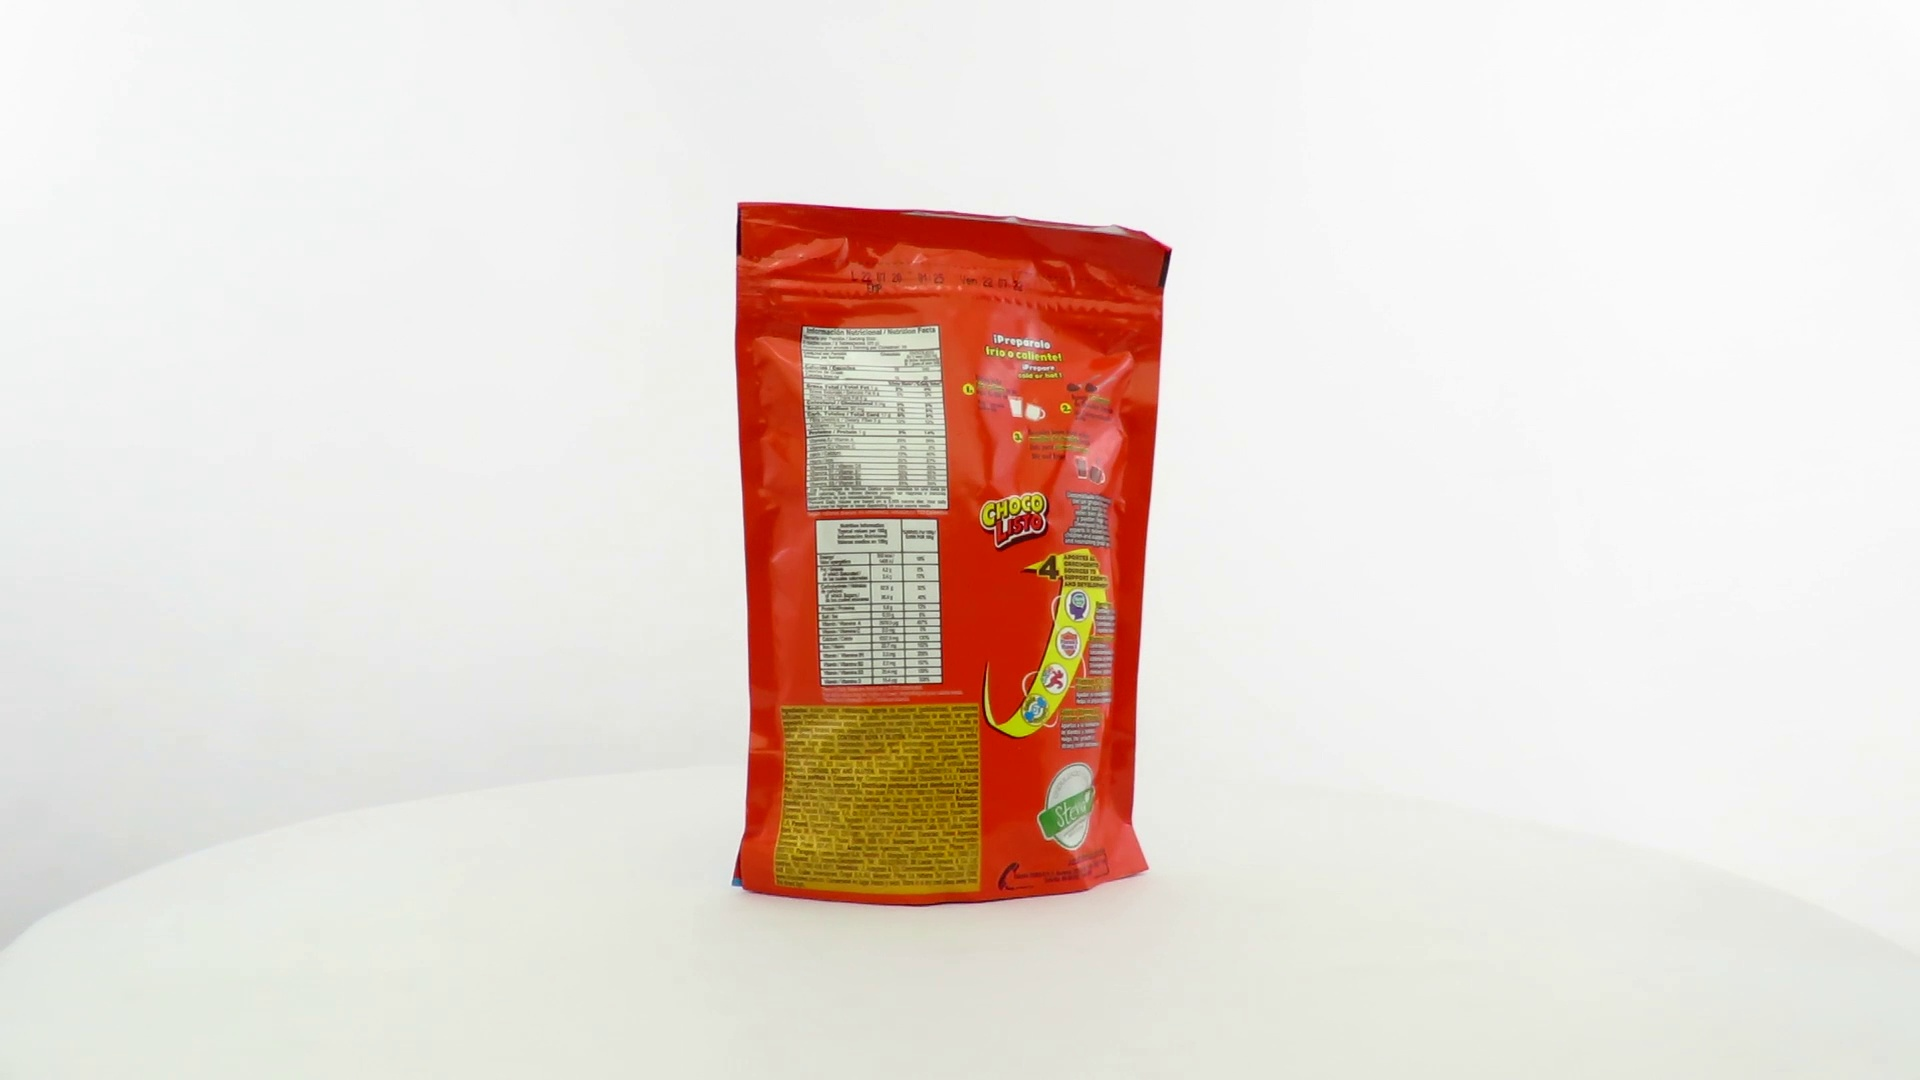COL0170104DYP20000: (727, 196, 1178, 913)
